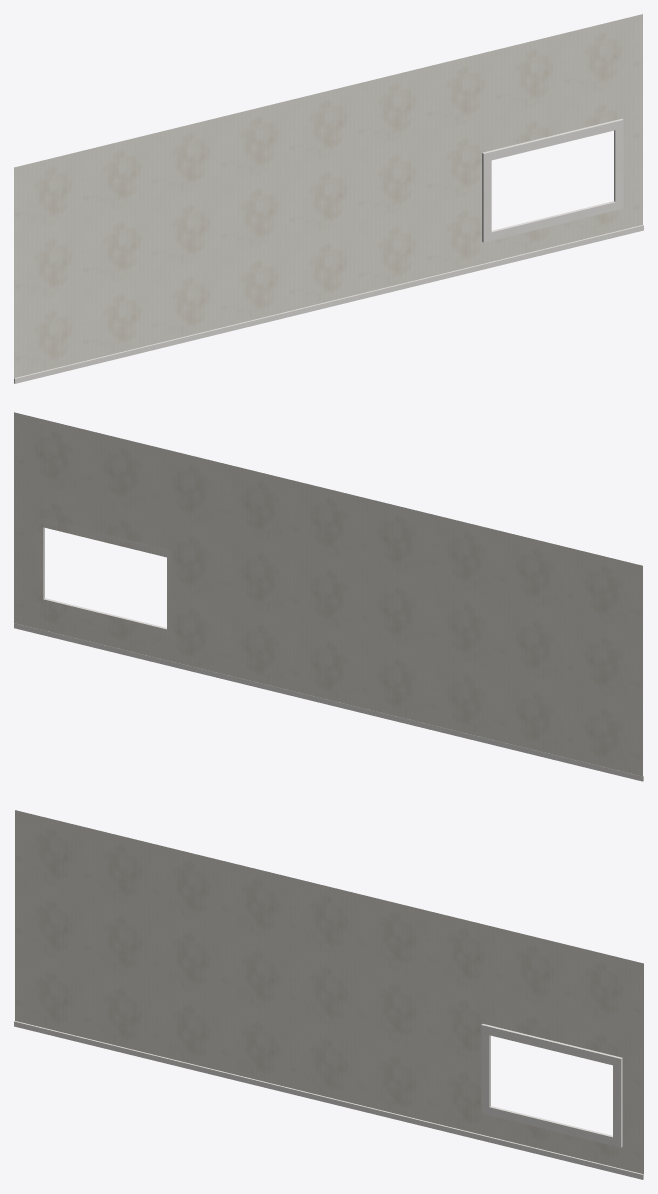
The picture shows the model from 3 angles, top to bottom: view 1: azimuth 30°, elevation 25°; view 2: azimuth 150°, elevation 25°; view 3: azimuth 330°, elevation 25°; orthographic projection.
Visible parts, largest first — view 1: jx_wm_18_d473f1d9; view 2: jx_wm_18_d473f1d9; view 3: jx_wm_18_d473f1d9.
Boxes of the visible parts, x1=… form: jx_wm_18_d473f1d9: x1=14, y1=14, x2=643, y2=383; jx_wm_18_d473f1d9: x1=14, y1=412, x2=643, y2=781; jx_wm_18_d473f1d9: x1=14, y1=810, x2=643, y2=1179.
Bounding box in the file's own units: 18.3 × 6 × 0.086.
2 materials, 2 textured.
